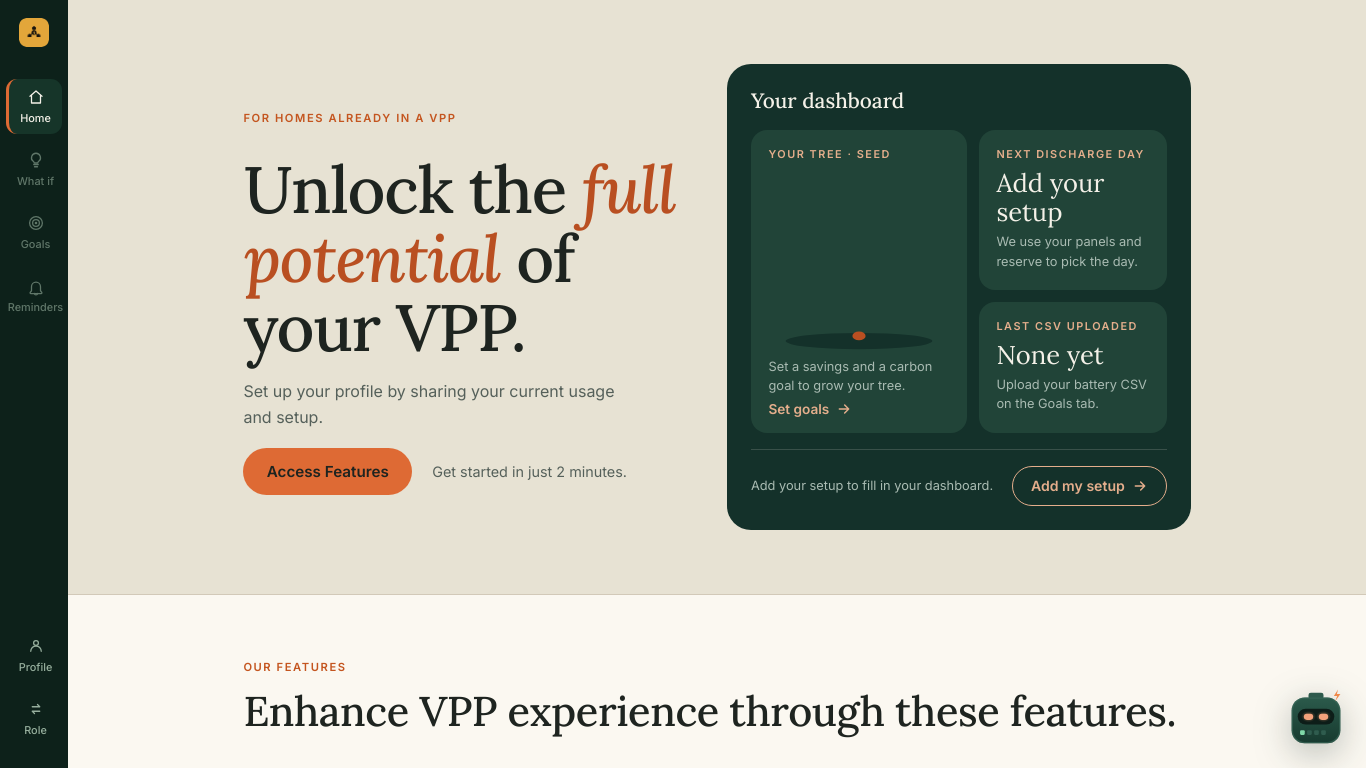
it: locked improve features › trembles the rail and shows Bolt when Goals is tapped before setup
Click the button "Goals" at [34, 233], box top-left (6, 206), bottom-right (62, 260)
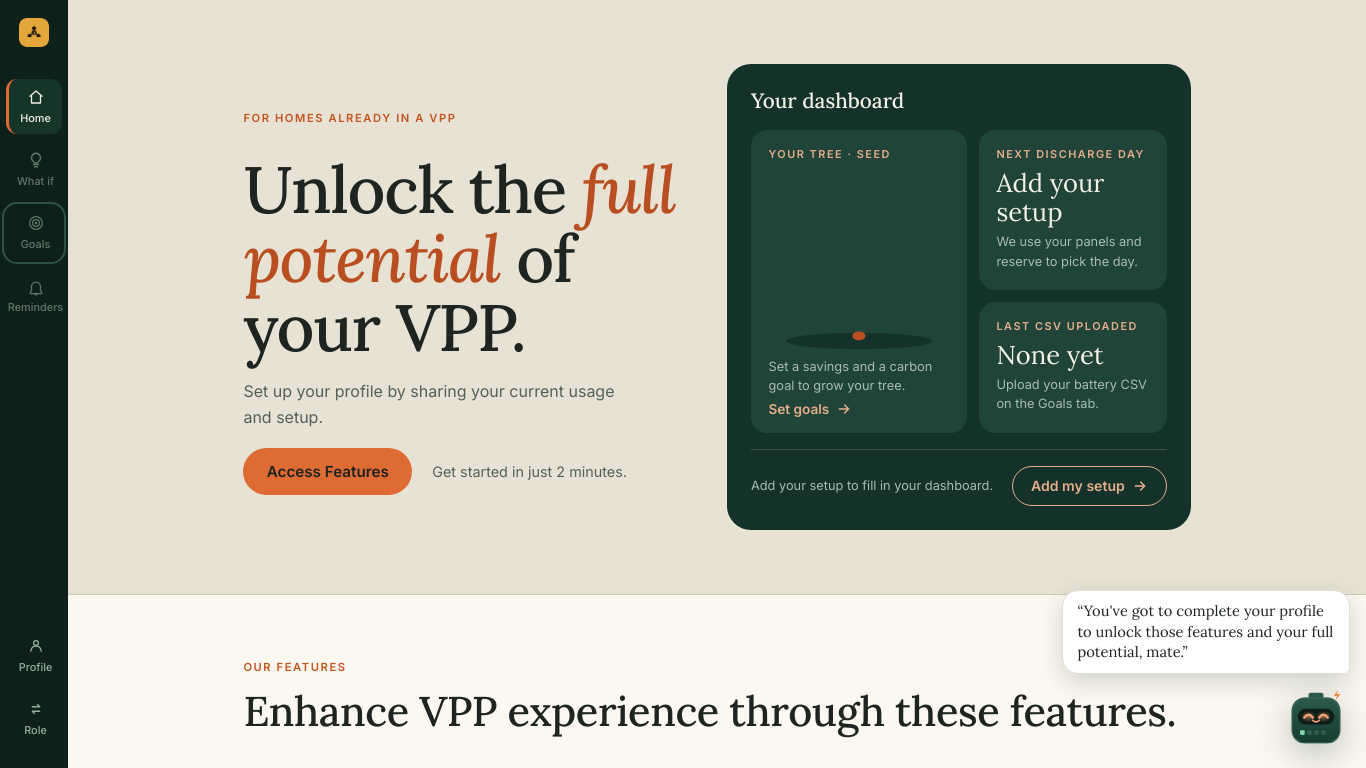
Result: the text "complete your profile to unlock those features" is shown at top-left (1077, 601), bottom-right (1333, 661)
